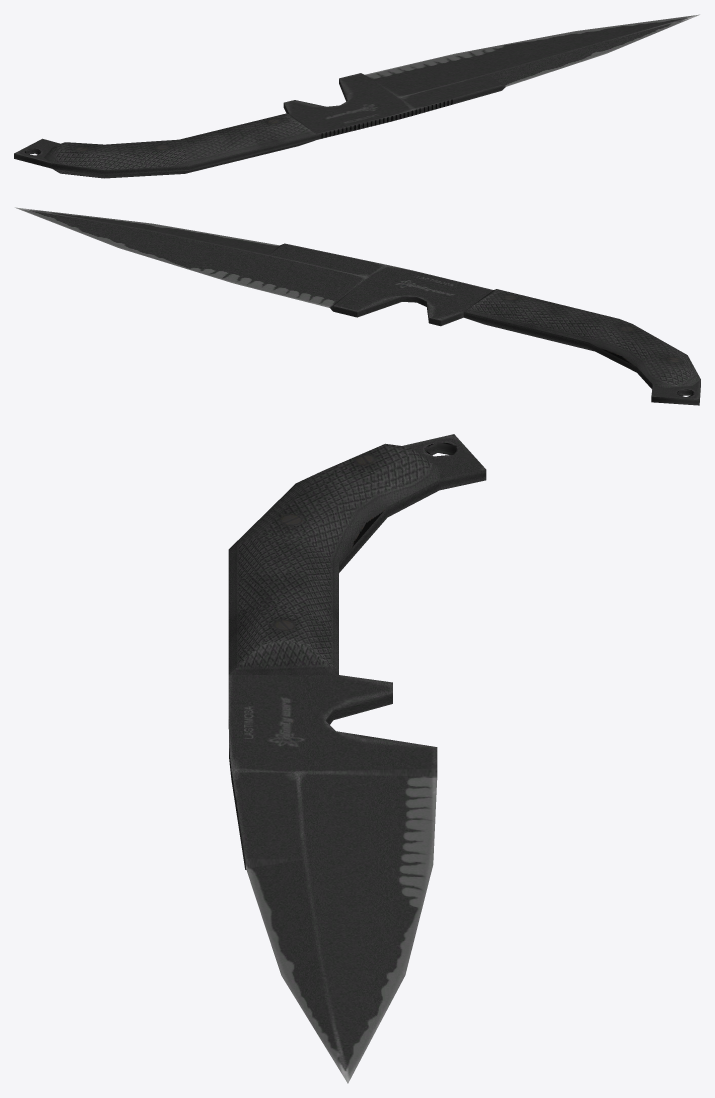
The model's file is weapon_parabolic_knife_LOD0.obj.
3 renders of one model, top to bottom at view 1: azimuth 30°, elevation 25°; view 2: azimuth 150°, elevation 25°; view 3: azimuth 270°, elevation 25°, orthographic. The views are drawn at different scales.
Visible parts, largest first — view 1: mtl_weapon_bolo_knife; view 2: mtl_weapon_bolo_knife; view 3: mtl_weapon_bolo_knife.
Part boxes in pixels (<box>): mtl_weapon_bolo_knife: <box>14,14,699,178</box>; mtl_weapon_bolo_knife: <box>15,207,700,405</box>; mtl_weapon_bolo_knife: <box>228,434,486,1083</box>.
Bounding box in the file's own units: 41.01 × 1.57 × 6.93.
